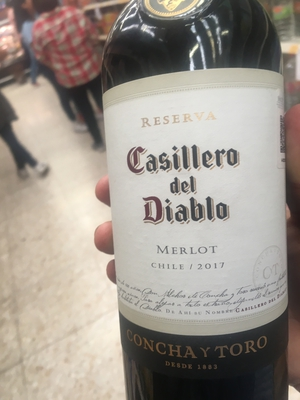casillero del diablo merlot: (89, 5, 294, 400)
